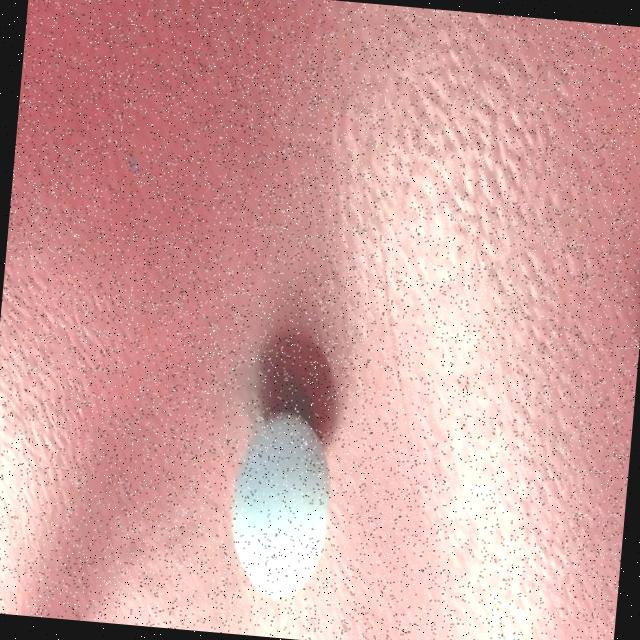ping-pong-ball: (206, 380, 366, 622)
